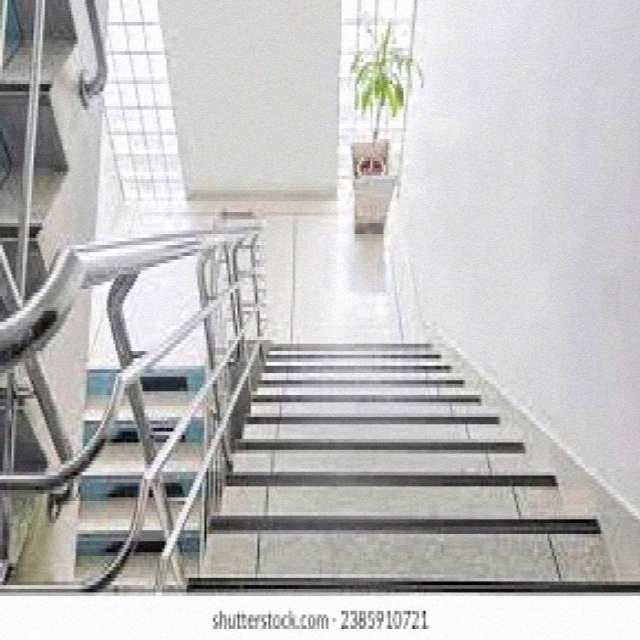stair: (157, 301, 639, 619), (0, 0, 131, 578)
